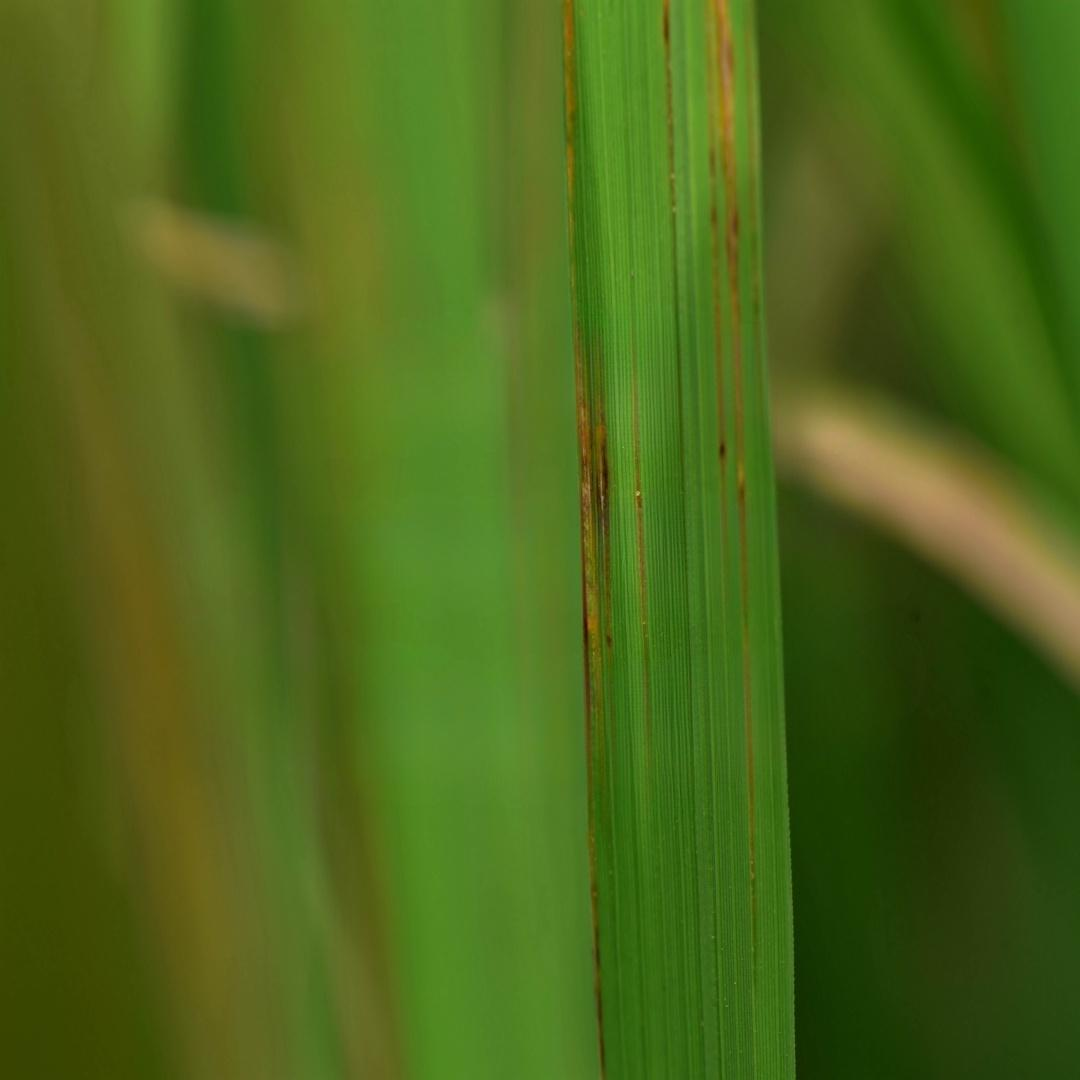BLS: (705, 0, 755, 889), (574, 333, 611, 1079), (662, 0, 686, 498), (744, 3, 765, 387), (633, 373, 651, 738), (565, 0, 576, 291)
LEAF: (564, 0, 794, 1079)
